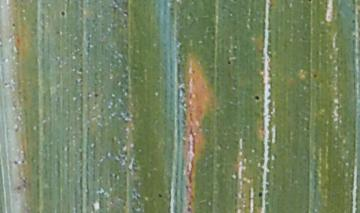tarspot: (59, 9, 67, 18), (179, 85, 186, 94), (253, 94, 260, 102), (311, 72, 318, 80), (156, 191, 163, 199), (11, 159, 20, 165), (225, 59, 232, 66), (21, 157, 26, 166), (257, 191, 262, 198), (93, 92, 99, 97), (350, 19, 356, 24), (10, 22, 16, 26)
